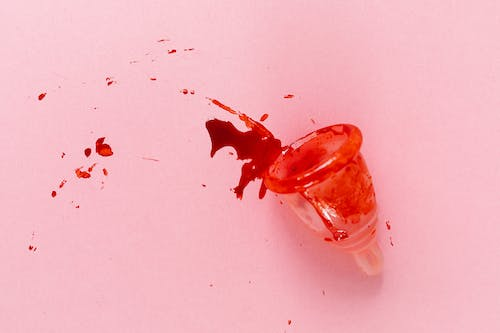blood: (26, 33, 396, 326), (263, 122, 376, 245)
